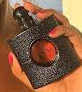ysl_black_opium: (7, 5, 80, 86)
